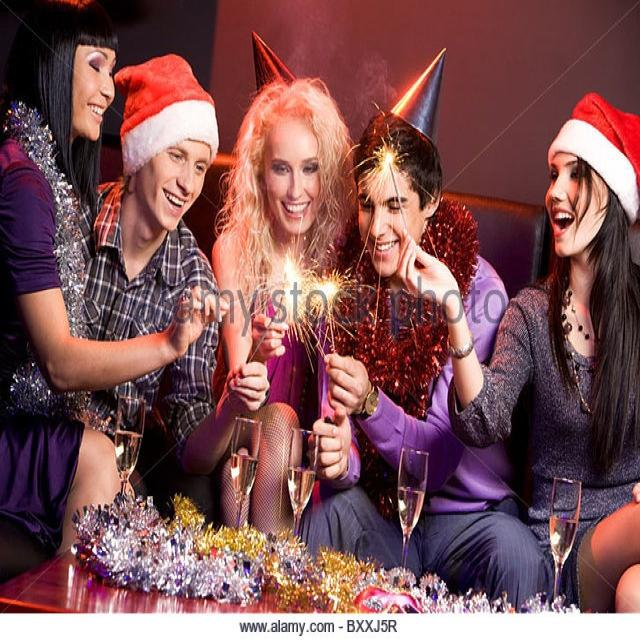body: (293, 41, 553, 615), (386, 86, 639, 638), (0, 0, 232, 583), (69, 49, 274, 532), (205, 68, 363, 543)
